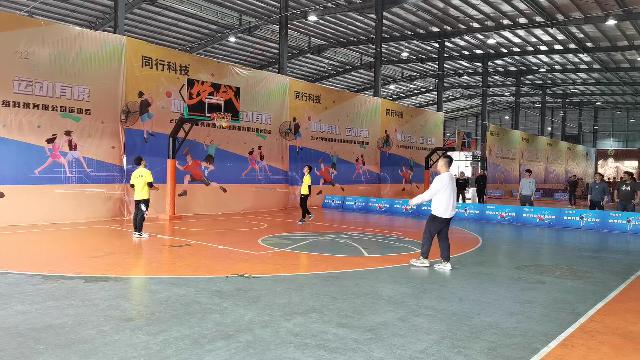basket: (212, 112, 232, 128)
goal: (222, 118, 230, 128)
